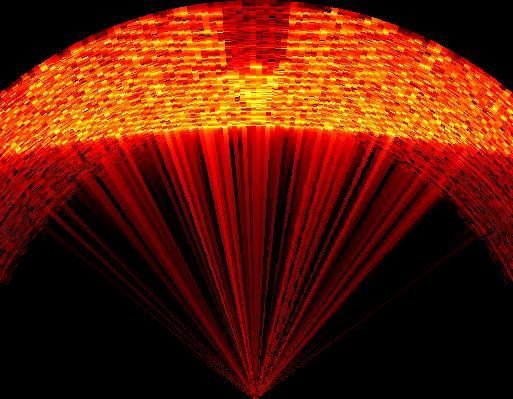box_crate: (222, 4, 291, 80)
